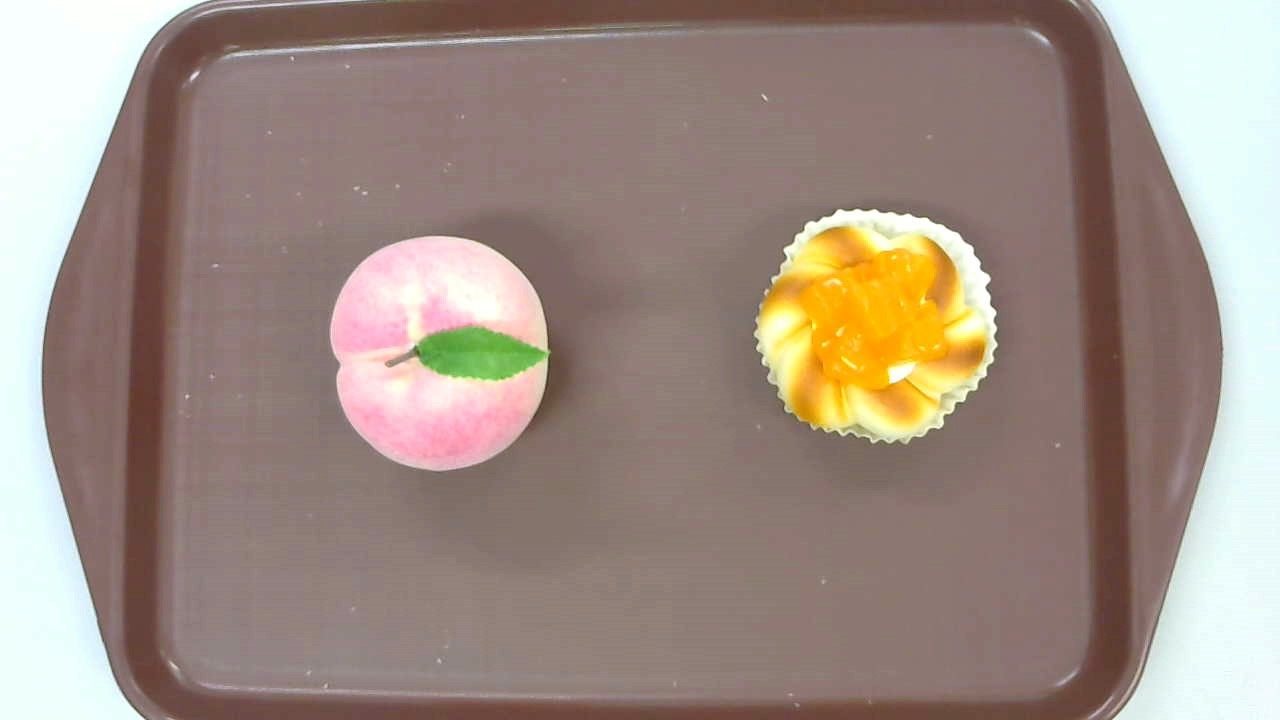mango tart: (753, 209, 997, 447)
peach: (329, 235, 551, 472)
